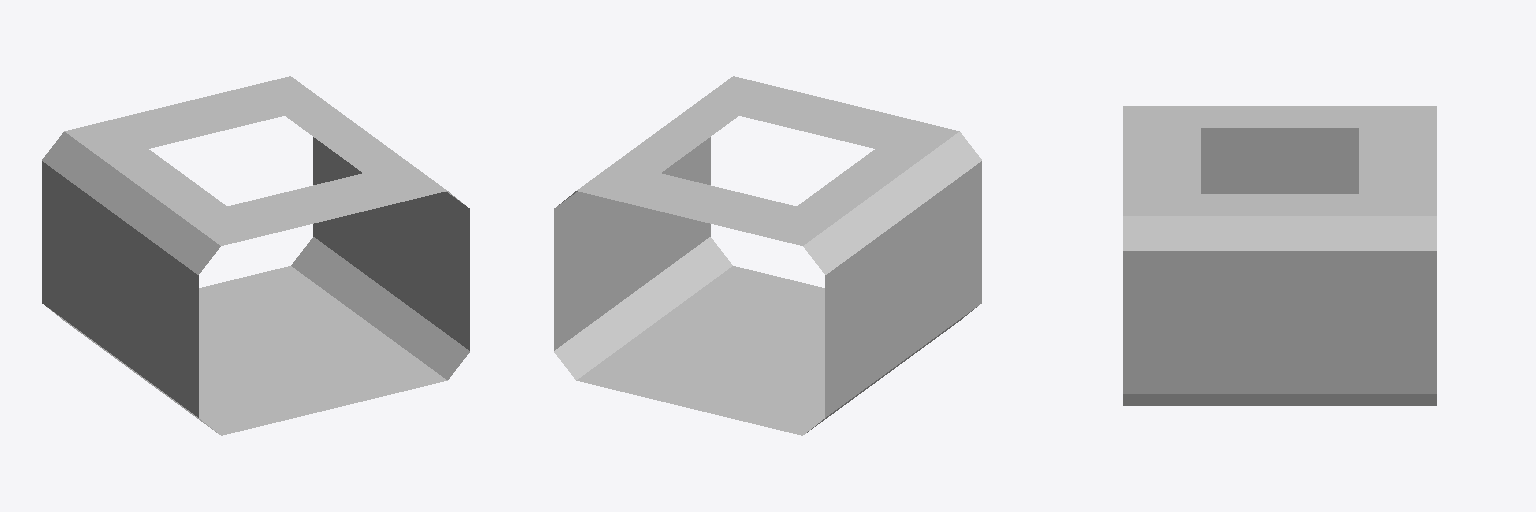
Rendered from Corridor_RoofHole.obj.
3 views of the same model, side by side, from view 1: azimuth 30°, elevation 25°; view 2: azimuth 150°, elevation 25°; view 3: azimuth 270°, elevation 25° (orthographic).
Parts seen in each view (by area): view 1: Corridor_Straight_Rotate_Cube; view 2: Corridor_Straight_Rotate_Cube; view 3: Corridor_Straight_Rotate_Cube.
Part boxes in pixels (left/top/right/bottom): Corridor_Straight_Rotate_Cube: left=42, top=76, right=469, bottom=435; Corridor_Straight_Rotate_Cube: left=554, top=76, right=981, bottom=435; Corridor_Straight_Rotate_Cube: left=1123, top=106, right=1436, bottom=405.
Size of the model in its own units: 6 by 4 by 6.